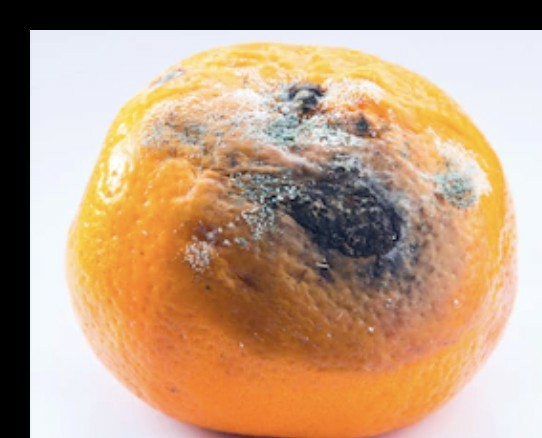rotten_orange: (66, 40, 519, 438)
